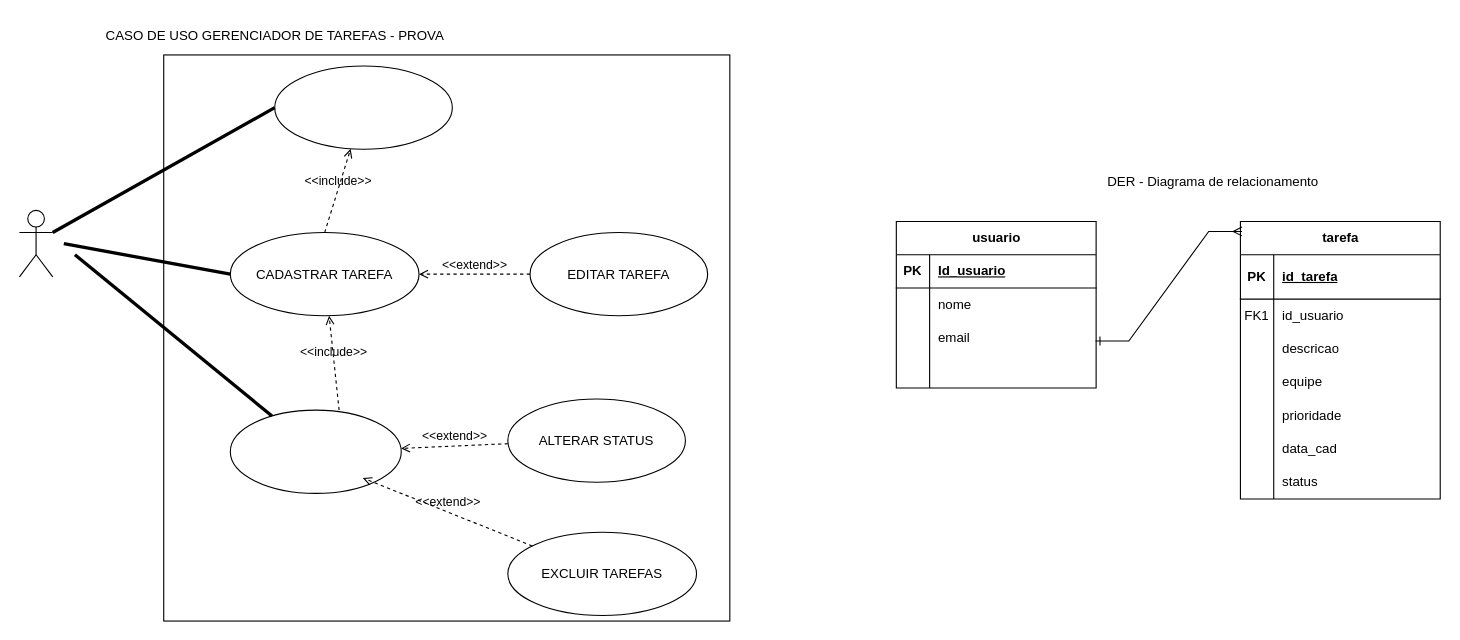
Image size: 1460x640. Some labels were removed from this diagram. Here are the shapes that lost their labels. From the top down, the box of each, then its label:
(274, 65, 452, 149): CADASTRAR USUARIO
(18, 209, 53, 277): Actor
(229, 409, 401, 493): GERENCIAR TAREFA
